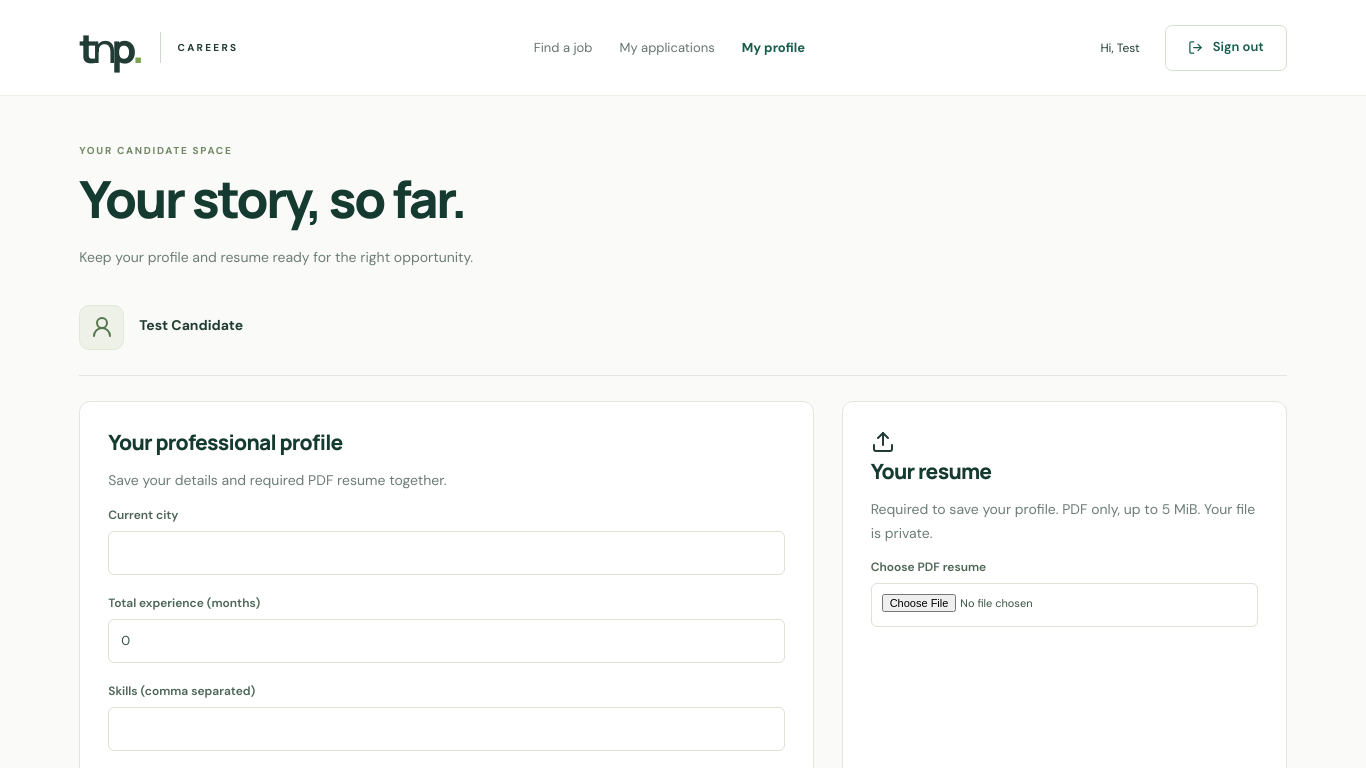
Test: requires a PDF before a new profile can be saved
Type "Kochi" into the field labelled "Current city".
click(446, 553); type("Kochi")  # box [108, 531, 785, 575]
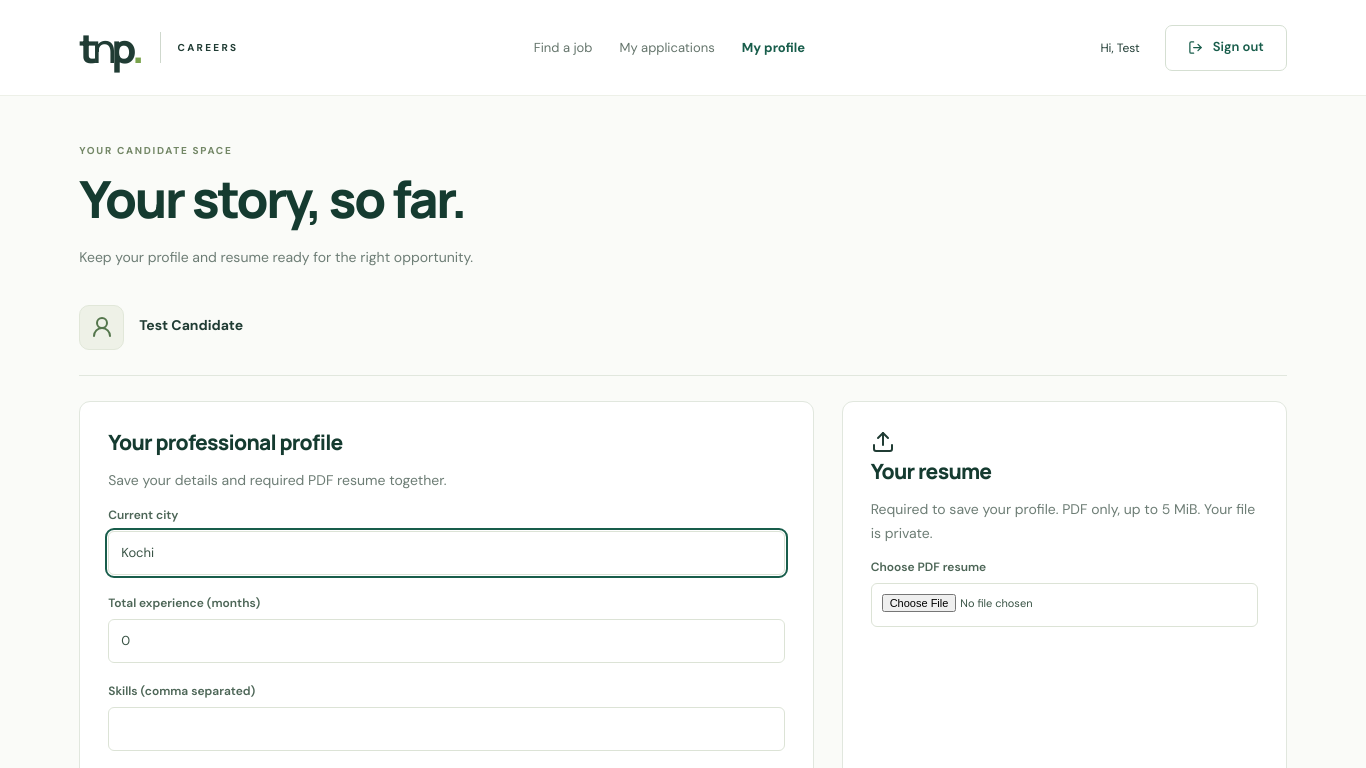
Type "React, SQL" into the field labelled "Skills (comma separated)".
click(446, 729); type("React, SQL")  # box [108, 707, 785, 751]
(page scrolled)
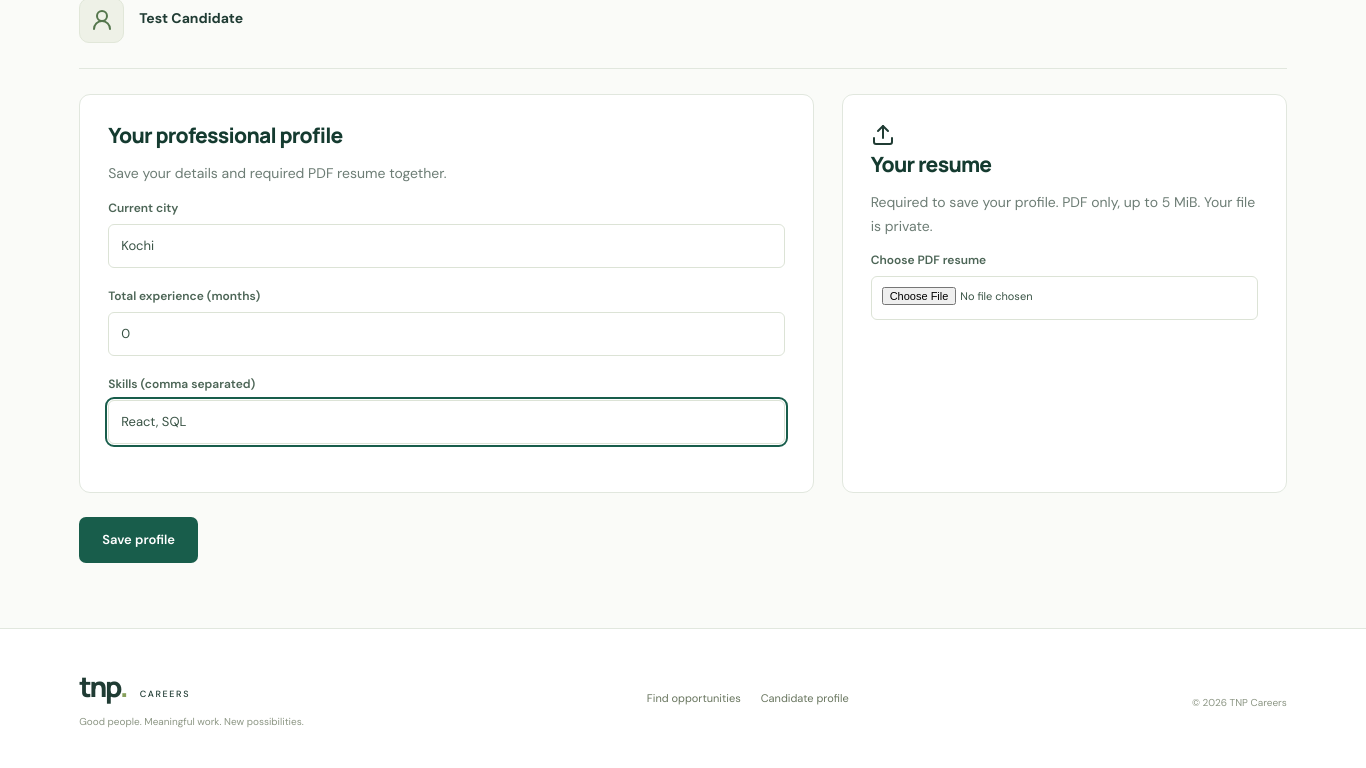
Click the button "Save profile".
click(139, 540)  # box [79, 517, 198, 563]
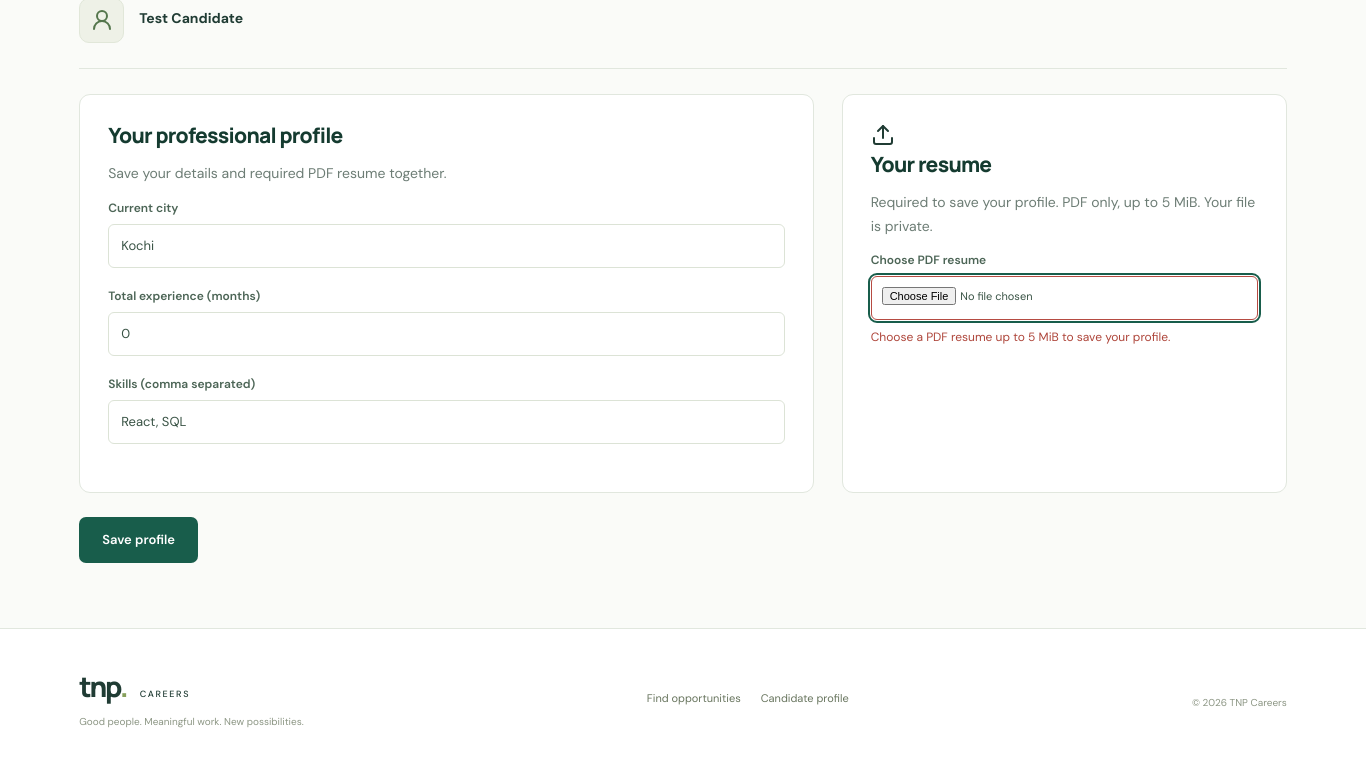
Expected: the text "Choose a PDF resume up to 5 MiB to save your profile." is shown, [871, 330, 1170, 346]
